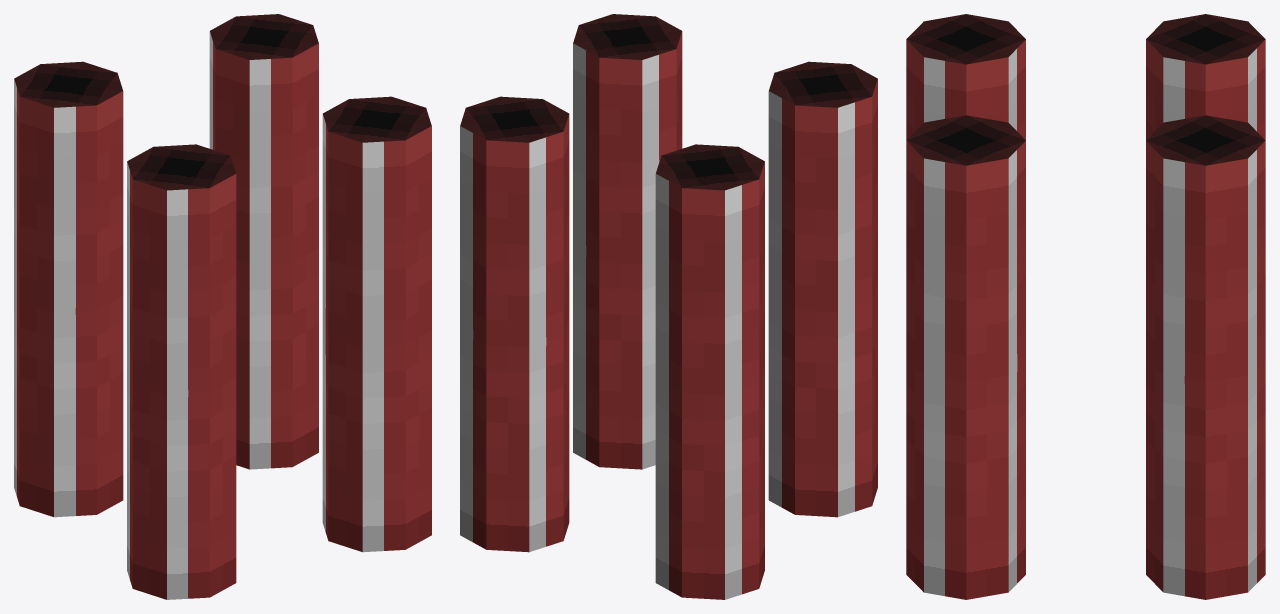
The model's file is pipe_quad_red.obj.
3 renders of one model, left to right at view 1: azimuth 30°, elevation 25°; view 2: azimuth 150°, elevation 25°; view 3: azimuth 270°, elevation 25°, orthographic. The views are drawn at different scales.
Visible parts, largest first — view 1: Side, Top; view 2: Side, Top; view 3: Side, Top.
Part boxes in pixels (x1=…): Side: x1=14, y1=31, x2=431, y2=599; Top: x1=14, y1=14, x2=431, y2=190; Side: x1=460, y1=31, x2=877, y2=599; Top: x1=460, y1=14, x2=877, y2=190; Side: x1=906, y1=39, x2=1265, y2=599; Top: x1=906, y1=14, x2=1265, y2=165.
Size of the model in its own units: 0.75 by 1 by 0.75.
